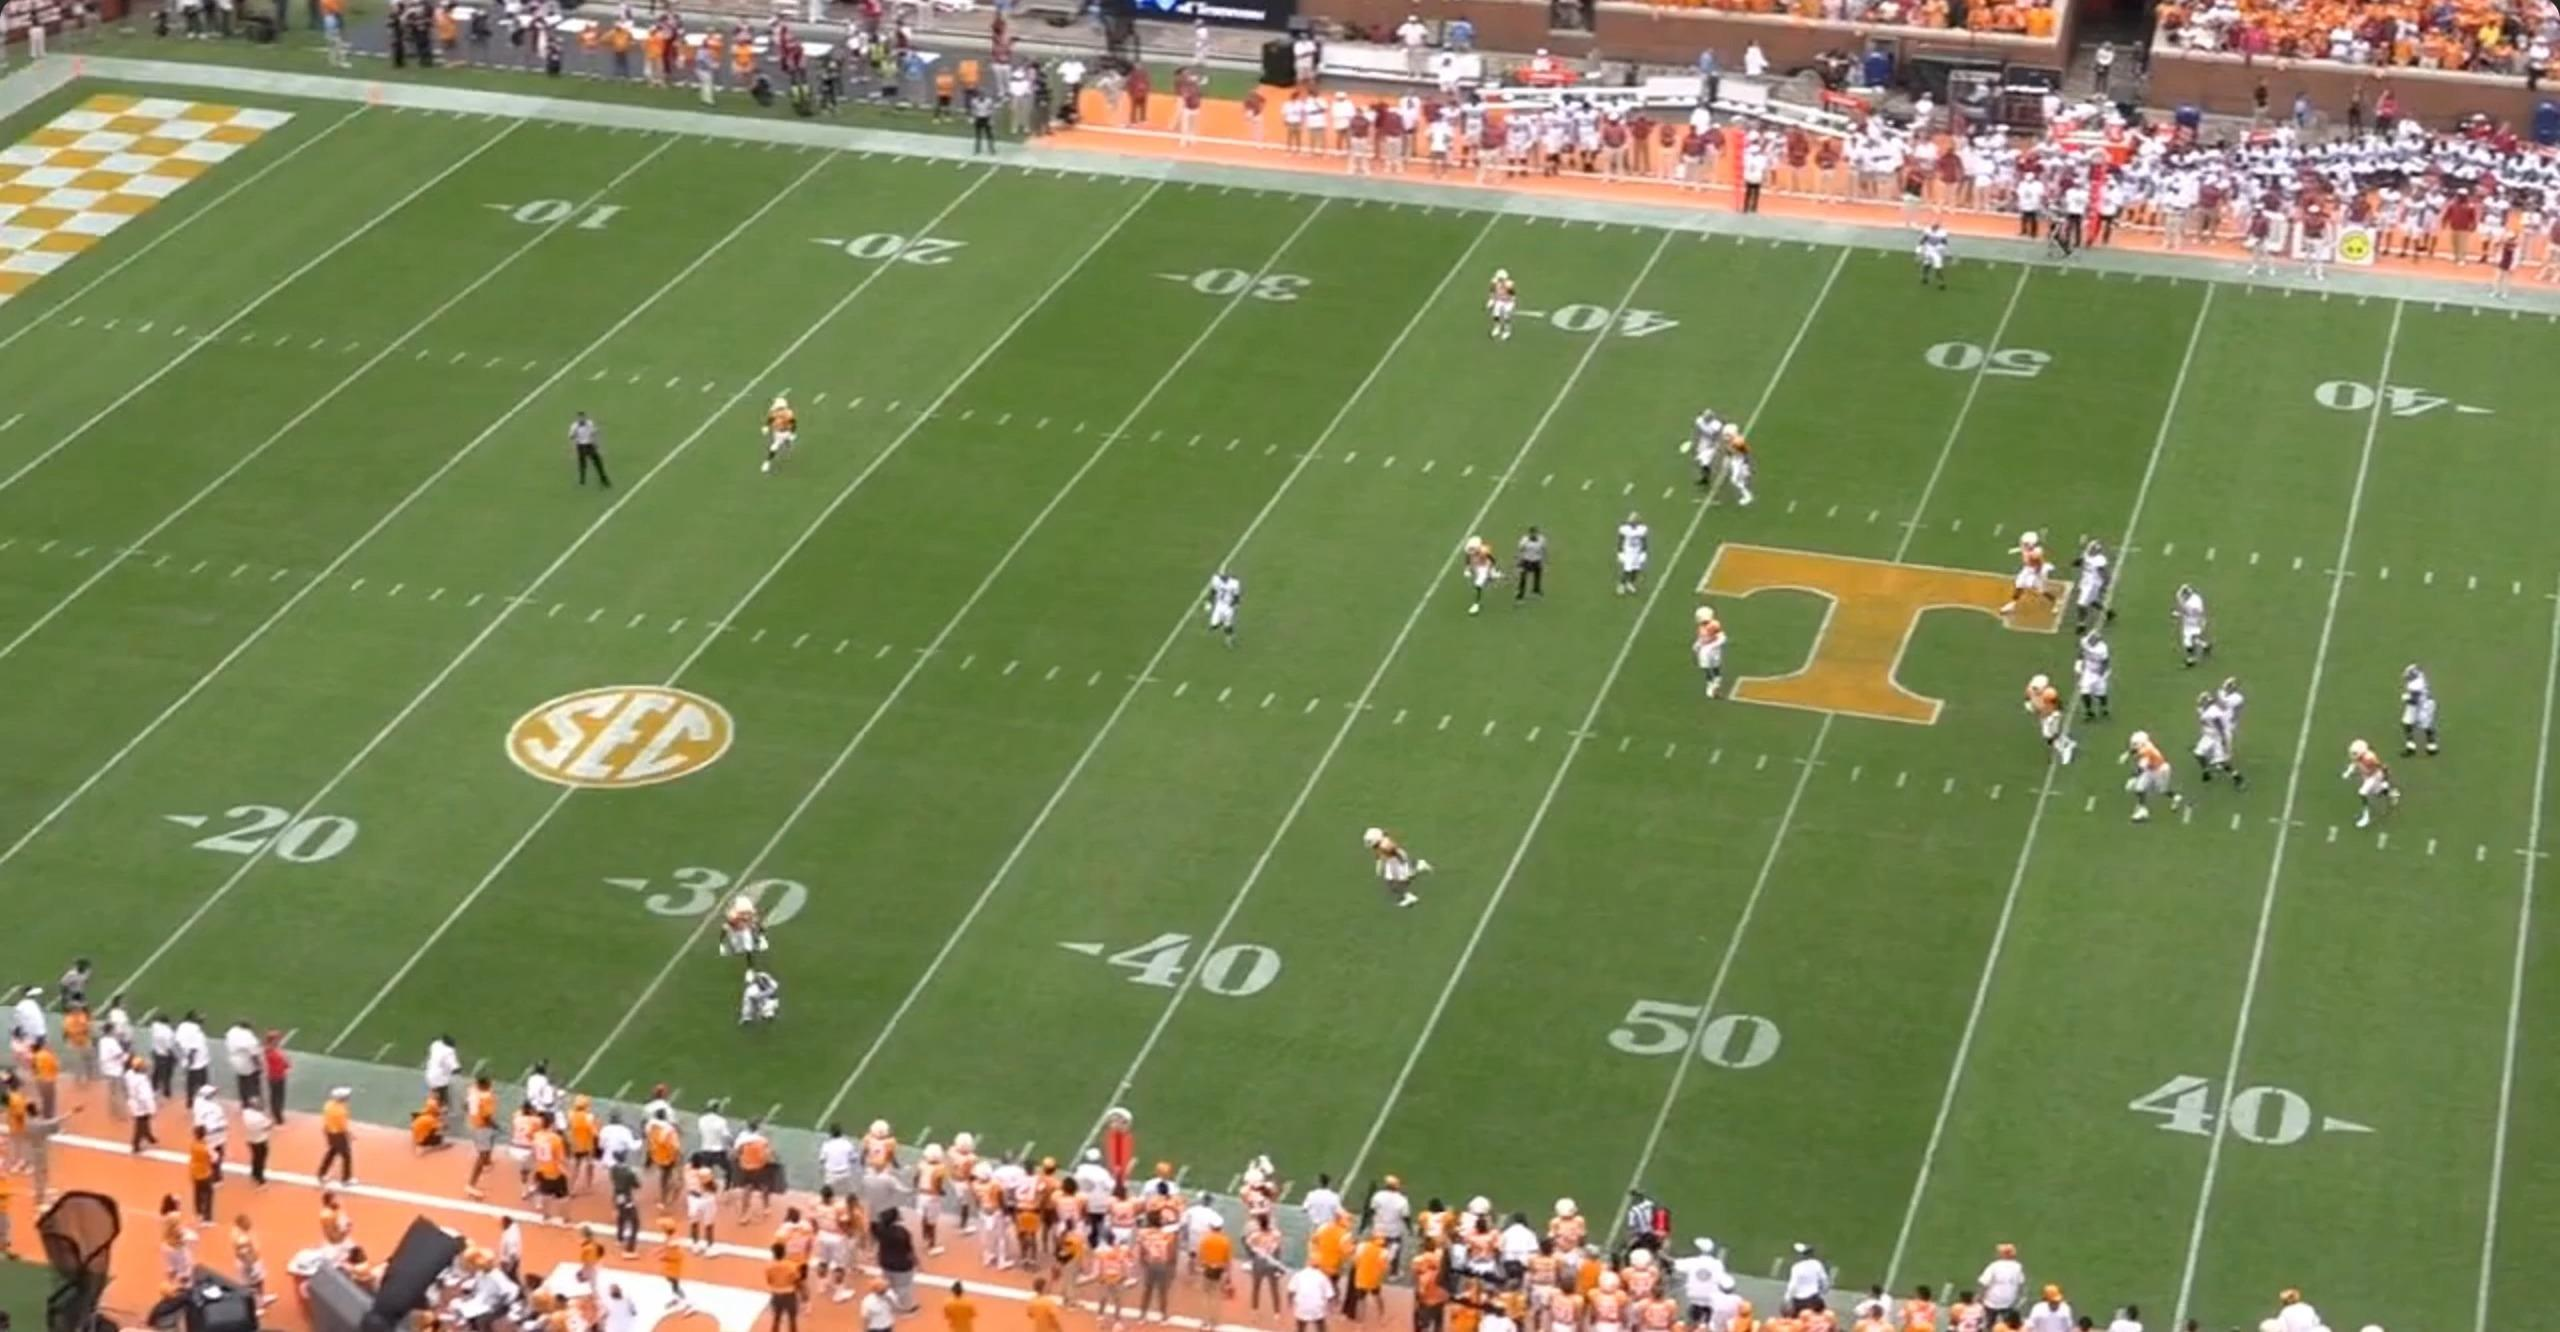player: (1362, 827, 1440, 917), (2120, 726, 2190, 825), (2339, 737, 2405, 833), (2001, 530, 2066, 622), (2027, 673, 2085, 773), (718, 888, 780, 980), (2190, 696, 2249, 792), (2392, 661, 2445, 763), (2063, 539, 2114, 638), (1453, 534, 1504, 622), (1679, 409, 1730, 495), (1711, 420, 1760, 508), (1201, 561, 1251, 647), (2067, 633, 2111, 730), (1694, 602, 1736, 703), (2170, 576, 2214, 668), (730, 964, 785, 1037), (762, 396, 808, 479), (1615, 509, 1654, 602), (2214, 672, 2246, 767), (1485, 265, 1524, 341), (1916, 219, 1954, 296)
ref: (1618, 1191, 1673, 1271), (1508, 525, 1553, 610), (568, 411, 613, 495), (962, 86, 1000, 159), (2036, 203, 2077, 266)
